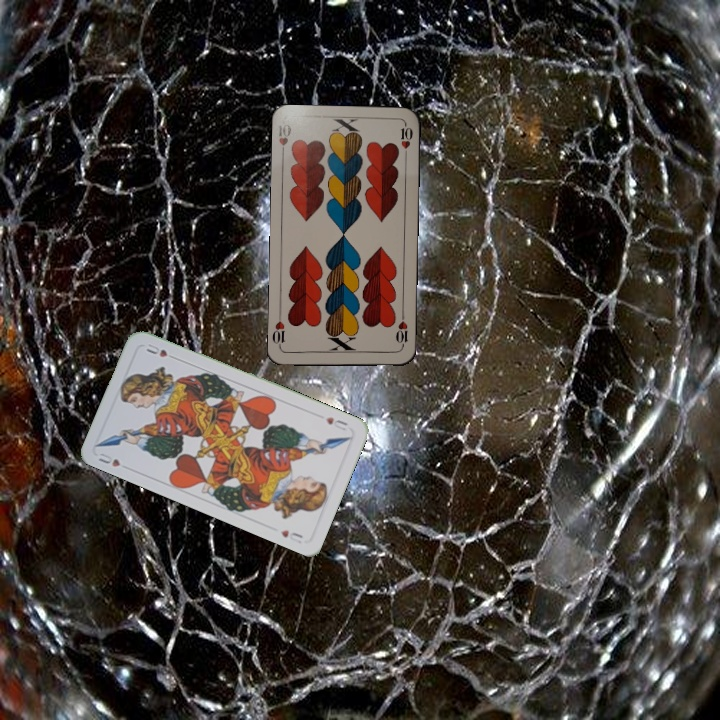H10: (392, 310, 411, 351), (275, 120, 294, 160)
HU: (321, 413, 350, 433), (94, 449, 123, 469)
